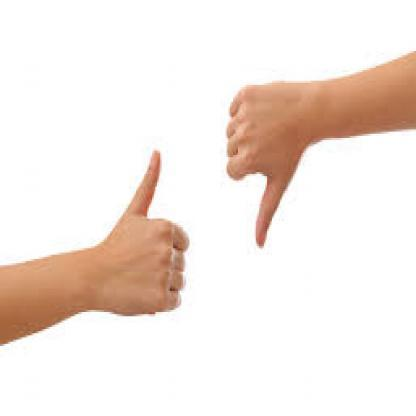thumb_down: (224, 80, 301, 250)
thumb_up: (102, 148, 188, 318)
